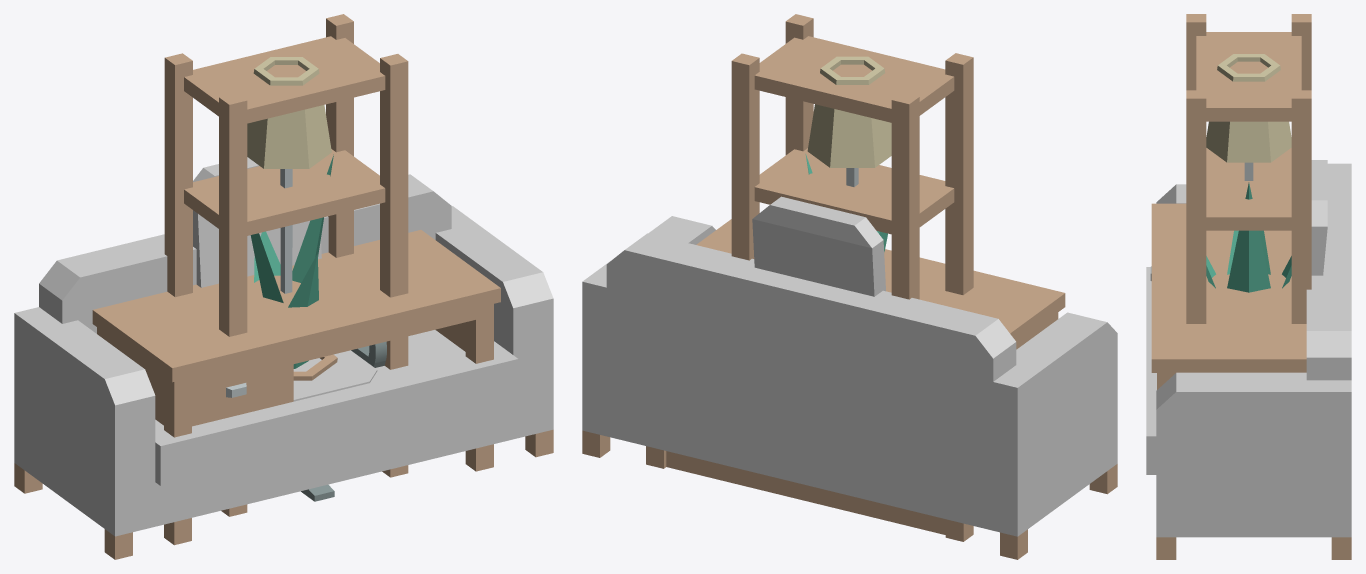
File: campus-furniture.glb
3 renders of one model, left to right at view 1: azimuth 30°, elevation 25°; view 2: azimuth 150°, elevation 25°; view 3: azimuth 270°, elevation 25°, orthographic. The views are drawn at different scales.
Parts seen in each view (by area): view 1: sofa, bookshelf, desk, lamp, chair, plant; view 2: sofa, bookshelf, desk, chair, lamp; view 3: sofa, bookshelf, desk, lamp, plant, chair.
Part boxes in pixels (bbox=[...]): sofa: bbox=[14, 174, 553, 559]; bookshelf: bbox=[164, 14, 408, 516]; desk: bbox=[92, 230, 500, 545]; lamp: bbox=[247, 57, 331, 293]; chair: bbox=[193, 157, 386, 501]; plant: bbox=[250, 154, 337, 380]; sofa: bbox=[582, 216, 1117, 559]; bookshelf: bbox=[731, 14, 973, 299]; desk: bbox=[646, 219, 1065, 541]; chair: bbox=[752, 196, 885, 296]; lamp: bbox=[807, 56, 891, 186]; sofa: bbox=[1146, 163, 1351, 559]; bookshelf: bbox=[1186, 14, 1311, 323]; desk: bbox=[1150, 203, 1306, 389]; lamp: bbox=[1206, 54, 1291, 180]; plant: bbox=[1206, 182, 1291, 292]; chair: bbox=[1311, 160, 1327, 275].
Size of the model in its own units: 0.98 by 0.88 by 0.41.
